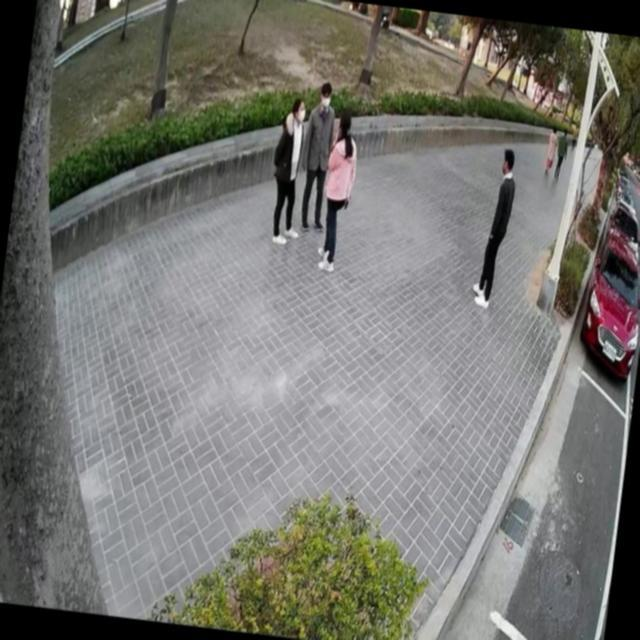person: (463, 136, 522, 312), (311, 102, 364, 276), (261, 91, 317, 247), (292, 77, 342, 236), (550, 122, 574, 184), (540, 119, 562, 180)
